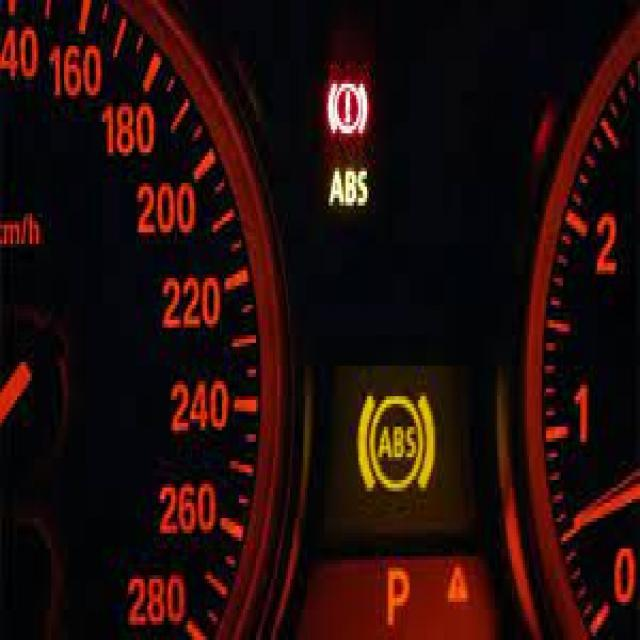ABS: (358, 384, 435, 492)
